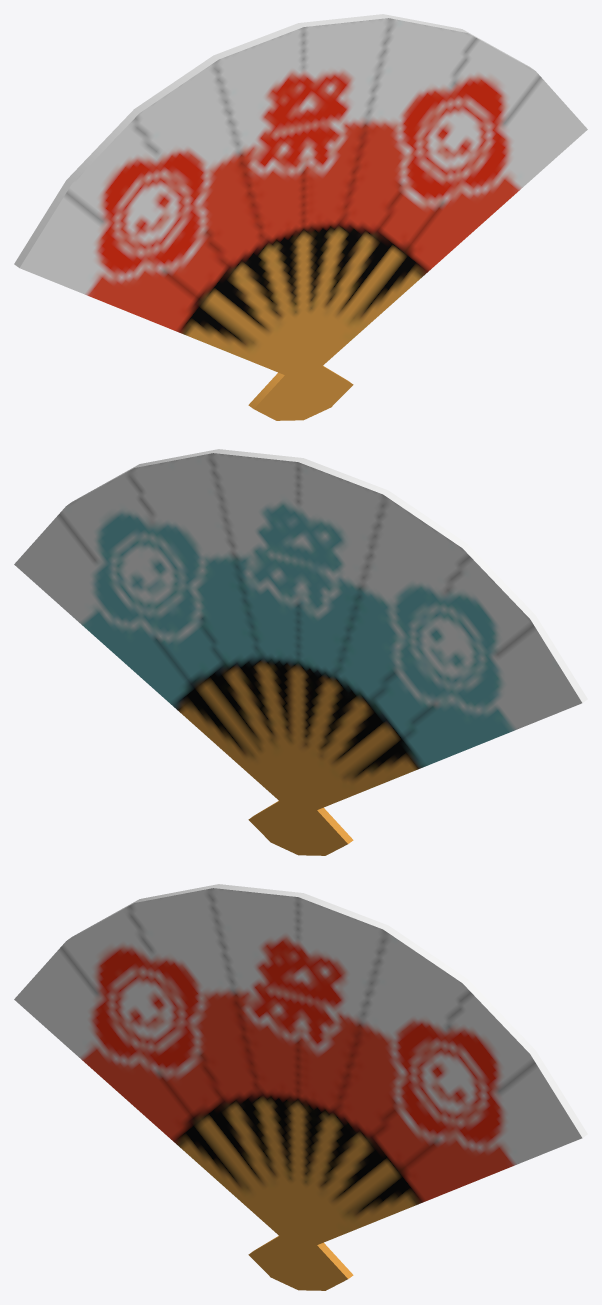
Rendered from icon.ico.obj.
3 views of the same model, one above another, from view 1: azimuth 30°, elevation 25°; view 2: azimuth 150°, elevation 25°; view 3: azimuth 330°, elevation 25° (orthographic).
Size of the model in its own units: 5 by 3.3 by 0.0835.
Materials: 1 (1 with a texture image).
